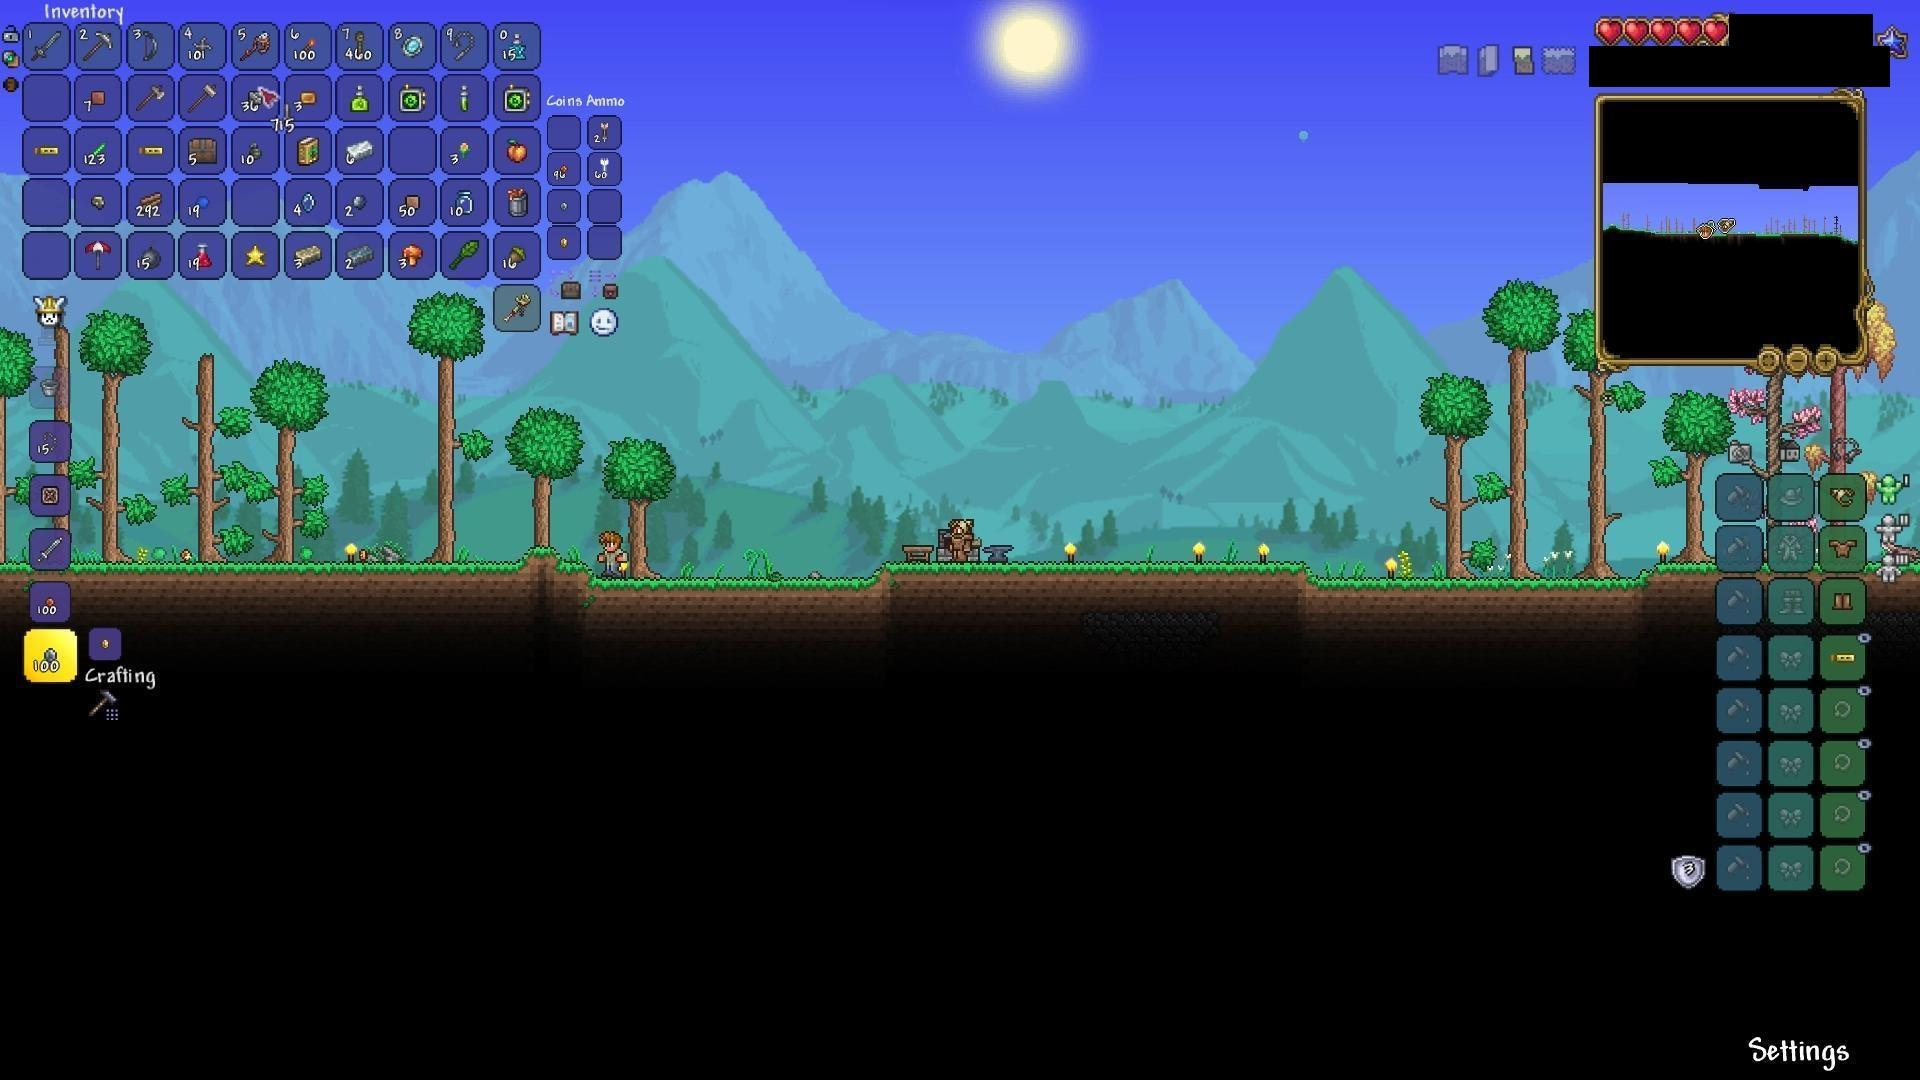dirt: (1295, 559, 1724, 605), (79, 555, 520, 597), (868, 551, 1307, 592), (572, 571, 884, 596), (510, 549, 585, 589)
heart: (1702, 17, 1733, 51), (1593, 16, 1626, 46), (1676, 15, 1704, 50), (1650, 16, 1676, 49), (1625, 15, 1651, 44)
tree: (400, 284, 475, 555), (252, 339, 335, 562), (1487, 270, 1545, 570), (84, 310, 150, 560), (1412, 359, 1485, 576), (178, 345, 240, 575), (1568, 303, 1609, 582), (600, 415, 667, 575), (1659, 385, 1712, 568), (501, 405, 562, 553)
